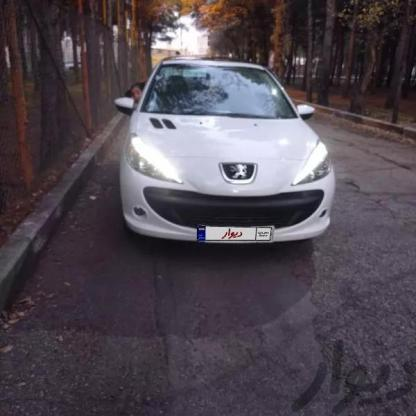Car: (112, 51, 340, 255)
